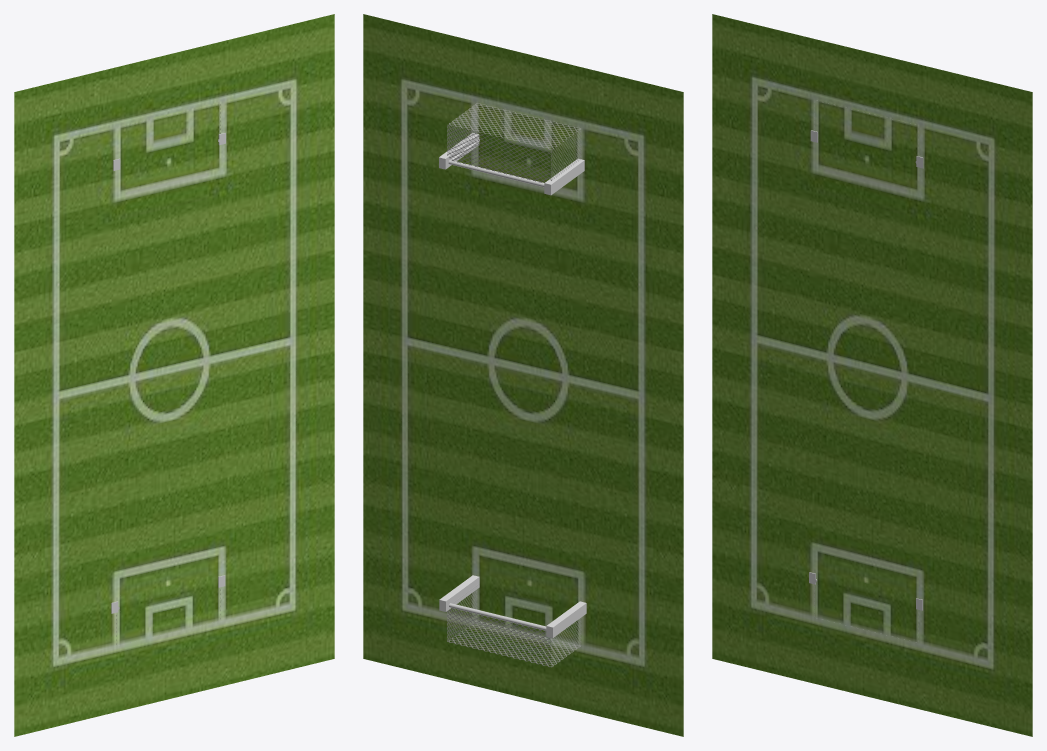
3 views of the same model, side by side, from view 1: azimuth 30°, elevation 25°; view 2: azimuth 150°, elevation 25°; view 3: azimuth 330°, elevation 25° (orthographic).
Parts seen in each view (by area): view 1: Torus.001; view 2: Torus.001, Object_11, Object_11.001, Object_13.001, Object_13, Object_7.001, cube_box.003, cube_box.001, Object_17, cube_box.002, cube_box, Object_17.001; view 3: Torus.001.
Part boxes in pixels (box(x1,y1,x2,y2)): Torus.001: box(14, 14, 334, 736); Torus.001: box(363, 14, 683, 736); Object_11: box(447, 608, 551, 667); Object_11.001: box(447, 125, 551, 182); Object_13.001: box(449, 103, 580, 149); Object_13: box(448, 621, 580, 666); Object_7.001: box(551, 129, 581, 179); cube_box.003: box(546, 601, 586, 637); cube_box.001: box(544, 158, 584, 195); Object_17: box(551, 618, 581, 667); cube_box.002: box(439, 575, 479, 611); cube_box: box(439, 133, 479, 169); Object_17.001: box(447, 104, 476, 155); Torus.001: box(712, 14, 1032, 736).
Bounding box in the file's own units: 3.38 × 6.5 × 0.6215.
13 materials, 13 textured.
